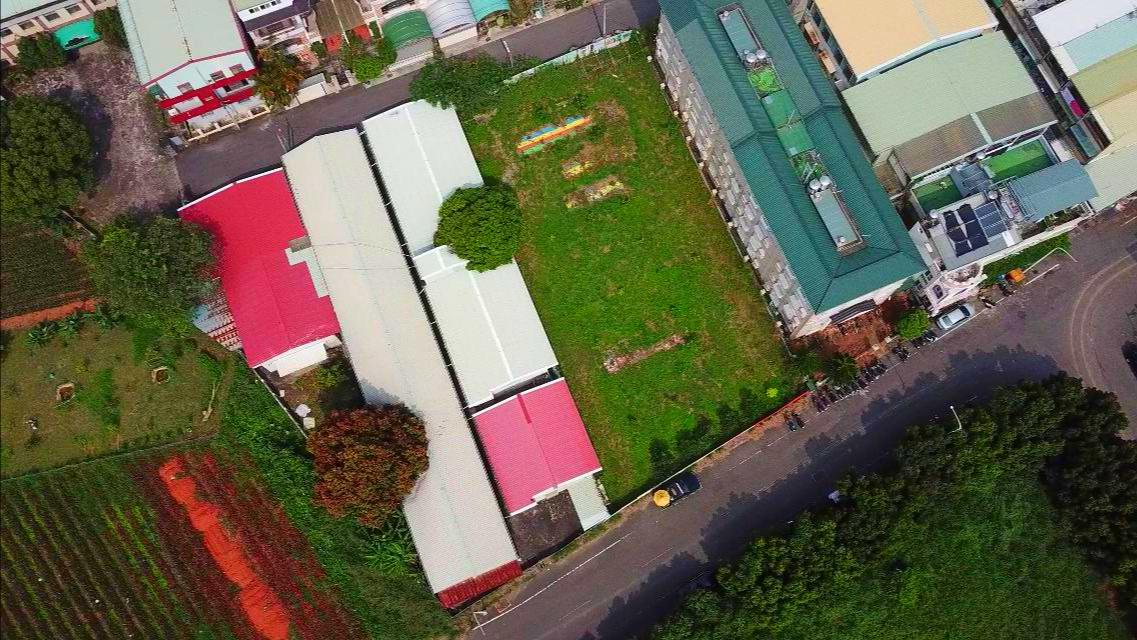vehicle: (654, 472, 699, 509), (937, 302, 976, 330)
